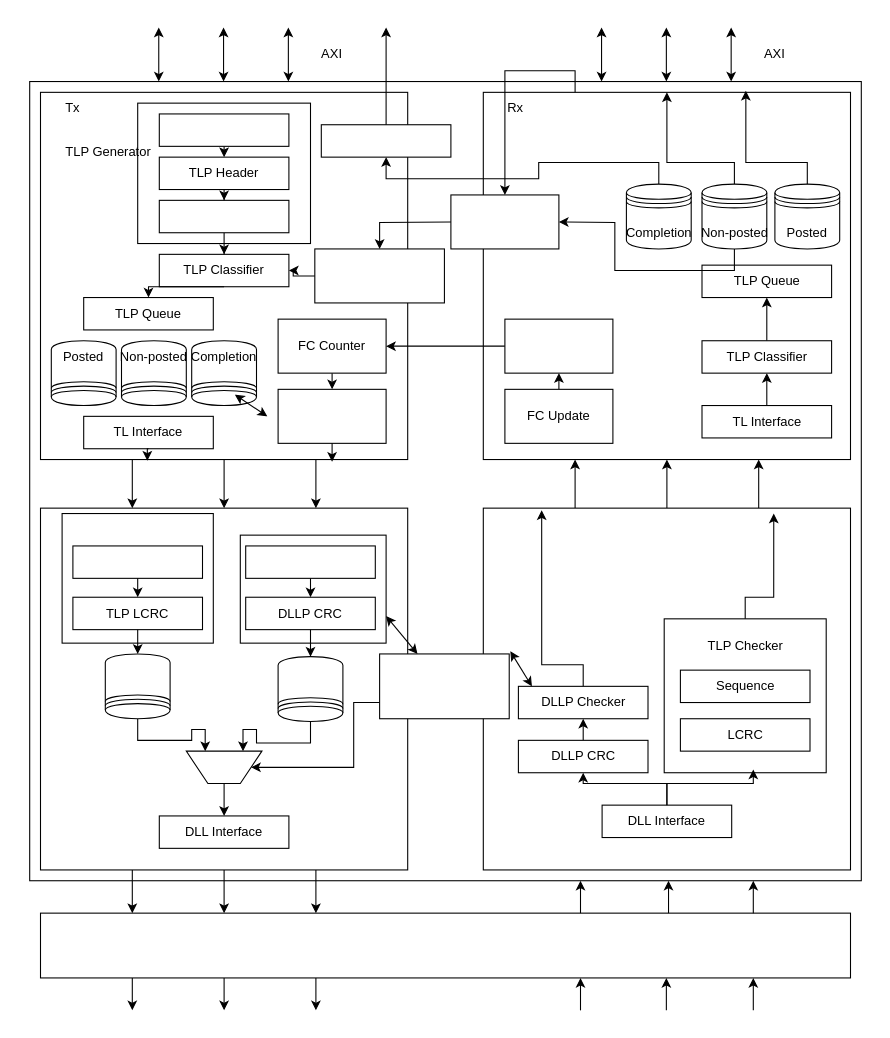
Some shapes in this 890 by 1038 pixel diagram are drawn without their labels. The shapes that lost their labels are listed below. From the top down, each one's centre as x and y in pixels, then its label:
At point (223, 129): "AXI Decoding".
At point (385, 140): "Completion ID match".
At point (223, 216): "TLP Packet".
At point (504, 221): "Completion Creator".
At point (379, 275): "TLP Completion Generator".
At point (558, 345): "Credit Manager".
At point (331, 415): "FC Control".
At point (137, 561): "TLP Sequence".
At point (310, 561): "DLLP Generator".
At point (444, 686): "DLCMSM".
At point (444, 945): "Physical layer".
